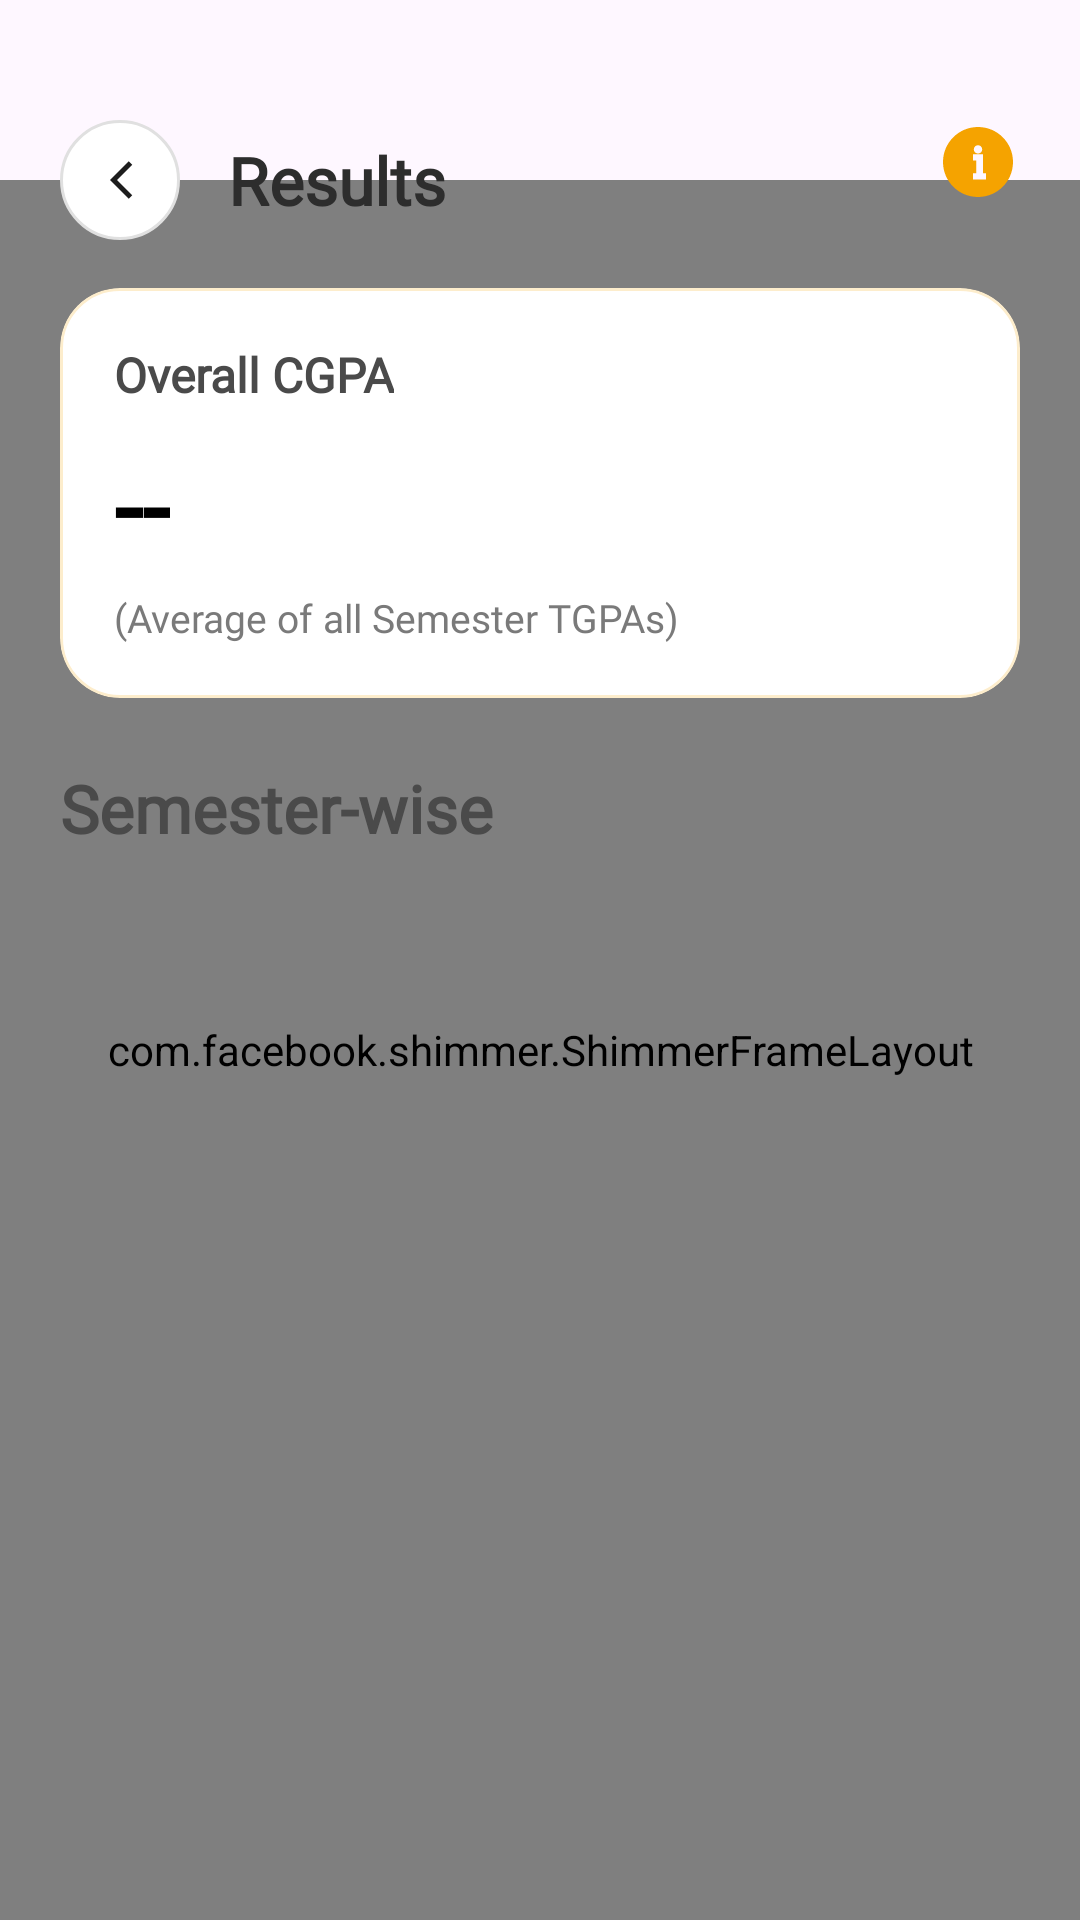

Screen size 1080×1920. Icon name, then its center in pixels as point (x, y):
Back: point (120, 180)
Info: point (978, 165)
